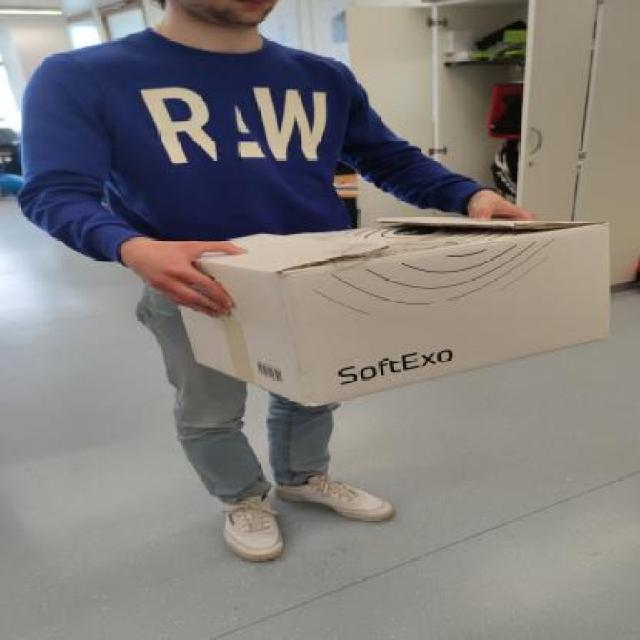box: (170, 208, 618, 410)
